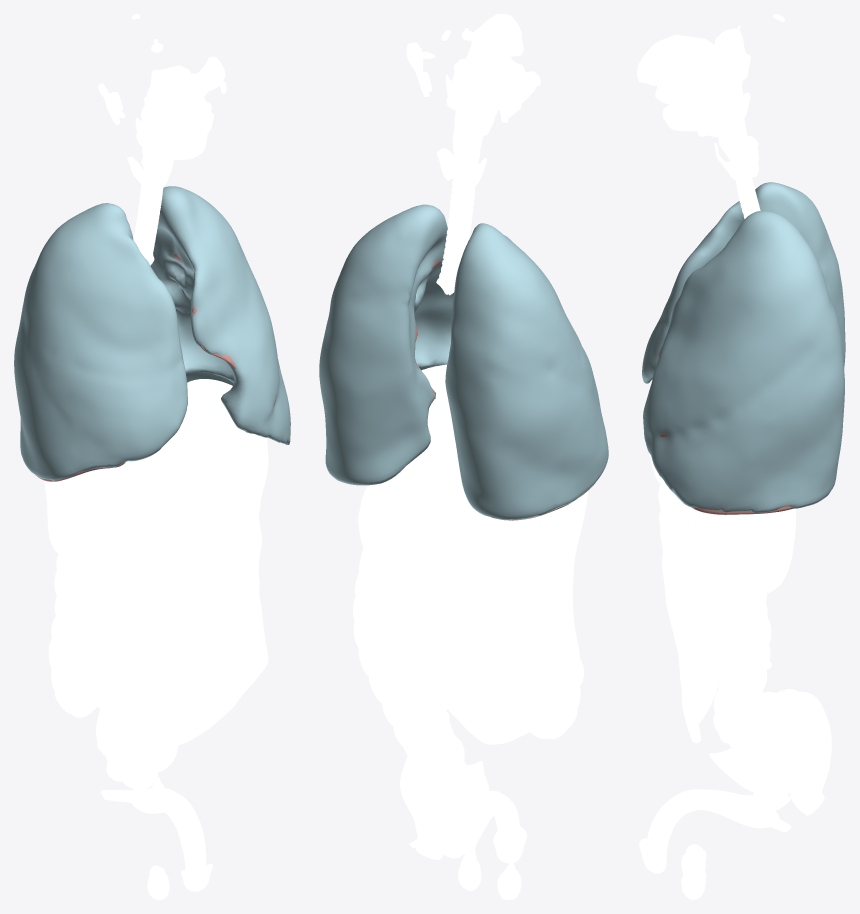
Rendered from visceral.glb.
The picture shows the model from 3 angles, left to right: view 1: azimuth 30°, elevation 25°; view 2: azimuth 150°, elevation 25°; view 3: azimuth 270°, elevation 25°; orthographic projection. The views are drawn at different scales.
Parts seen in each view (by area): view 1: Pleura, Greater omentum, Liver, Ascending colon, Corpus cavernosum of penis, Stomach, Gingiva, Urinary bladder, Mucosa of nasal cavity, Trachea, Mucosa of stomach, Parotid gland.l (+3 smaller); view 2: Pleura, Greater omentum, Ascending colon, Descending colon, Sigmoid colon, Liver, Kidney.l, Kidney.r, Trachea, Stomach, Oropharynx, Corpus cavernosum of penis (+15 smaller); view 3: Pleura, Greater omentum, Descending colon, Sigmoid colon, Corpus cavernosum of penis, Mucosa of nasal cavity, Urinary bladder, Kidney.l, Gingiva, Mesocolic taenia, Nasopharynx, Stomach (+11 smaller).
Boxes of the visible parts, x1,y1,x2,y2 form: Pleura: (14,186,290,480); Greater omentum: (65,493,268,747); Liver: (44,379,260,556); Ascending colon: (48,554,97,717); Corpus cavernosum of penis: (101,777,206,869); Stomach: (170,436,268,533); Gingiva: (135,101,211,159); Urinary bladder: (102,724,177,775); Mucosa of nasal cavity: (159,65,210,128); Trachea: (133,184,163,265); Mucosa of stomach: (227,461,263,509); Parotid gland.l: (191,56,225,96); Pleura: (319,204,608,520); Greater omentum: (391,532,579,744); Ascending colon: (518,564,583,738); Descending colon: (354,548,464,775); Sigmoid colon: (400,727,464,859); Liver: (421,364,588,573); Kidney.l: (358,482,418,574); Kidney.r: (486,522,535,616); Trachea: (436,177,475,295); Stomach: (407,413,462,483); Oropharynx: (451,71,520,129); Corpus cavernosum of penis: (409,790,520,862); Pleura: (642,182,845,513); Greater omentum: (659,511,728,743); Descending colon: (715,530,796,755); Sigmoid colon: (788,691,831,815); Corpus cavernosum of penis: (646,789,791,854); Mucosa of nasal cavity: (637,35,706,86); Urinary bladder: (709,748,798,794); Kidney.l: (755,508,795,593); Gingiva: (655,82,718,131); Mesocolic taenia: (720,536,795,739); Nasopharynx: (705,39,743,89); Stomach: (658,482,740,537).
Size of the model in its own units: 0.2634 by 0.8931 by 0.1926.
